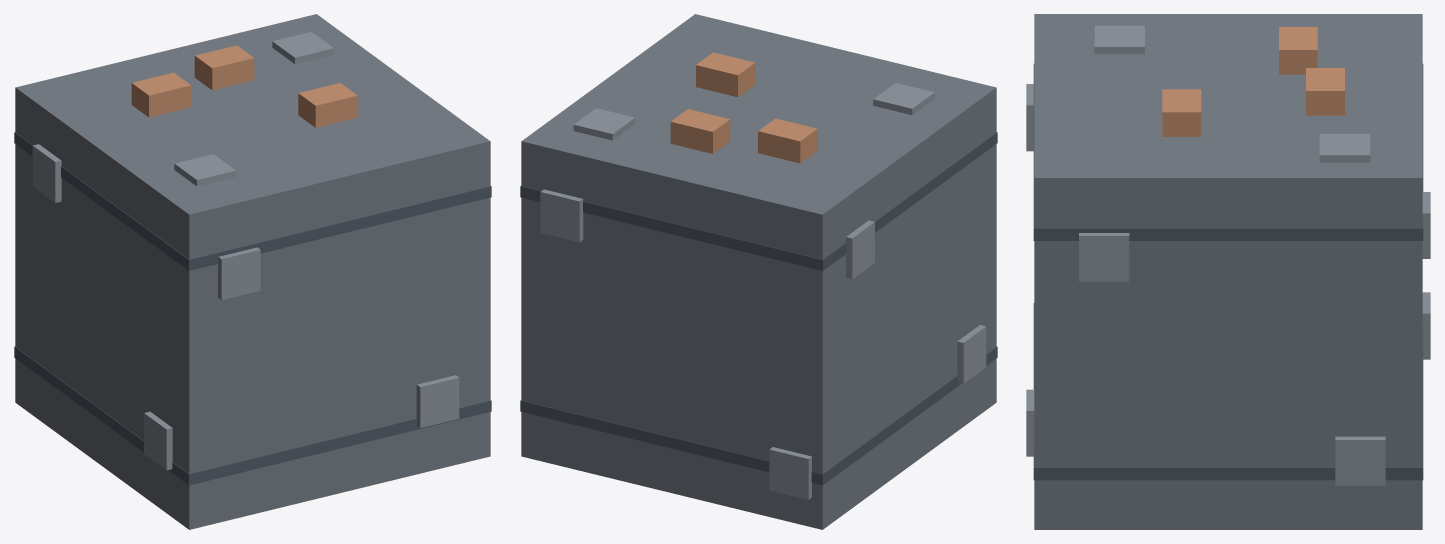
The model's file is scrap_ore_block.glb.
3 renders of one model, left to right at view 1: azimuth 30°, elevation 25°; view 2: azimuth 150°, elevation 25°; view 3: azimuth 270°, elevation 25°, orthographic. The views are drawn at different scales.
Visible parts, largest first — view 1: dark_stone_core, dark_seam_1, dark_seam, rusty_scrap, rusty_scrap_2, rusty_scrap_1, stone_chip_1, stone_chip, stone_chip_6, stone_chip_7, stone_chip_8, stone_chip_9; view 2: dark_stone_core, dark_seam, dark_seam_1, rusty_scrap_2, rusty_scrap, rusty_scrap_1, stone_chip_3, stone_chip_2, stone_chip_7, stone_chip_6, stone_chip_9, stone_chip_8; view 3: dark_stone_core, dark_seam_1, dark_seam, stone_chip_5, stone_chip_4, rusty_scrap_1, rusty_scrap_2, rusty_scrap, stone_chip_8, stone_chip_9, stone_chip_1, stone_chip_2 (+2 smaller).
Part boxes in pixels (x1=…): dark_stone_core: x1=15, y1=14, x2=490, y2=529; dark_seam_1: x1=14, y1=132, x2=491, y2=270; dark_seam: x1=14, y1=346, x2=491, y2=485; rusty_scrap: x1=131, y1=72, x2=191, y2=117; rusty_scrap_2: x1=194, y1=45, x2=254, y2=90; rusty_scrap_1: x1=298, y1=83, x2=357, y2=127; stone_chip_1: x1=416, y1=375, x2=459, y2=427; stone_chip: x1=218, y1=247, x2=260, y2=300; stone_chip_6: x1=32, y1=144, x2=61, y2=202; stone_chip_7: x1=144, y1=411, x2=172, y2=470; stone_chip_8: x1=174, y1=154, x2=236, y2=186; stone_chip_9: x1=272, y1=31, x2=333, y2=63; dark_stone_core: x1=521, y1=14, x2=996, y2=529; dark_seam: x1=520, y1=346, x2=997, y2=485; dark_seam_1: x1=520, y1=132, x2=997, y2=270; rusty_scrap_2: x1=670, y1=109, x2=730, y2=153; rusty_scrap: x1=758, y1=118, x2=817, y2=163; rusty_scrap_1: x1=696, y1=52, x2=755, y2=97; stone_chip_3: x1=540, y1=189, x2=583, y2=242; stone_chip_2: x1=769, y1=447, x2=811, y2=499; stone_chip_7: x1=957, y1=325, x2=986, y2=383; stone_chip_6: x1=846, y1=220, x2=874, y2=279; stone_chip_9: x1=573, y1=108, x2=635, y2=140; stone_chip_8: x1=873, y1=83, x2=934, y2=115; dark_stone_core: x1=1034, y1=14, x2=1422, y2=529; dark_seam_1: x1=1033, y1=64, x2=1423, y2=240; dark_seam: x1=1033, y1=303, x2=1423, y2=480; stone_chip_5: x1=1335, y1=436, x2=1385, y2=485; stone_chip_4: x1=1079, y1=233, x2=1129, y2=281; rusty_scrap_1: x1=1162, y1=89, x2=1201, y2=136; rusty_scrap_2: x1=1306, y1=68, x2=1344, y2=115; rusty_scrap: x1=1279, y1=27, x2=1317, y2=74; stone_chip_8: x1=1094, y1=25, x2=1144, y2=54; stone_chip_9: x1=1319, y1=134, x2=1370, y2=162; stone_chip_1: x1=1026, y1=389, x2=1034, y2=456; stone_chip_2: x1=1422, y1=292, x2=1430, y2=359.
Bounding box in the file's own units: 1.04 × 1.09 × 1.04.
